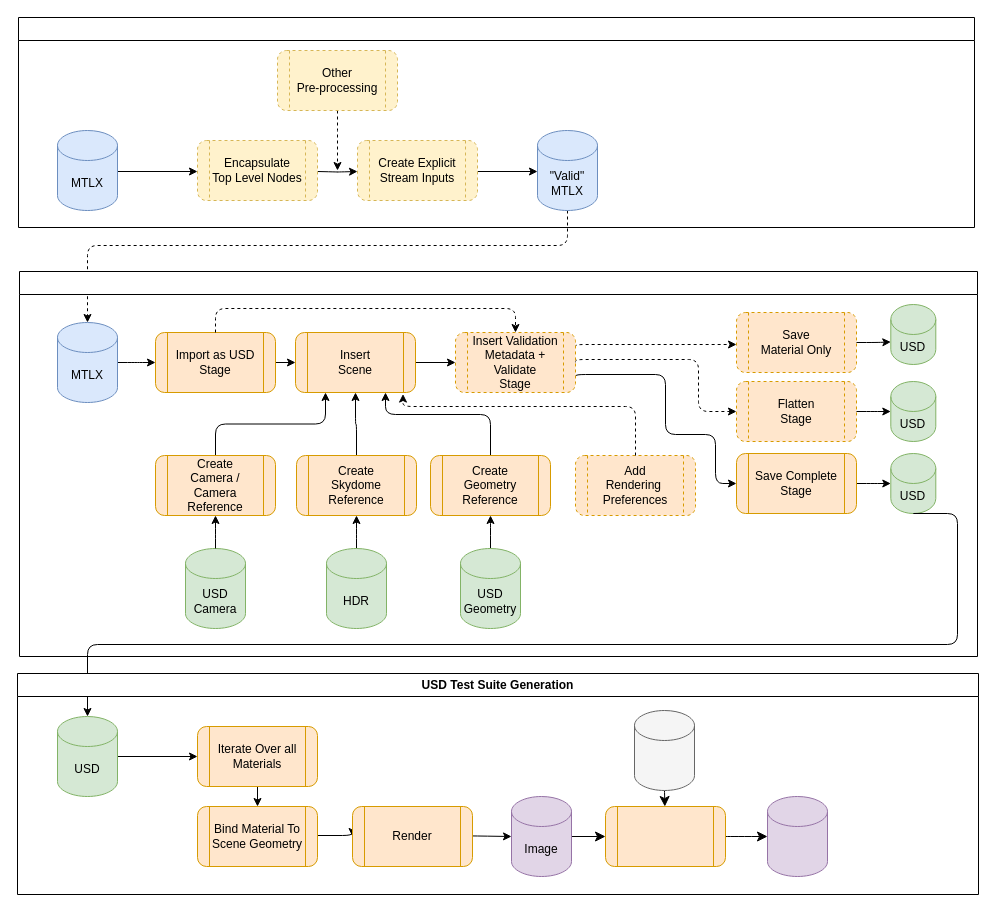
This 996x912 diagram has some shape labels left out. The shapes that lost their labels are listed below. From the top down, each one's centre as x and y in pixels, then its label:
At [496,122]: "MaterialX USD Sanitization".
At [498,463]: "MaterialX To USD Building".
At [664,750]: "Comparisn Image".
At [665,836]: "Image Comparison".
At [797,836]: "Test Suite Results".
